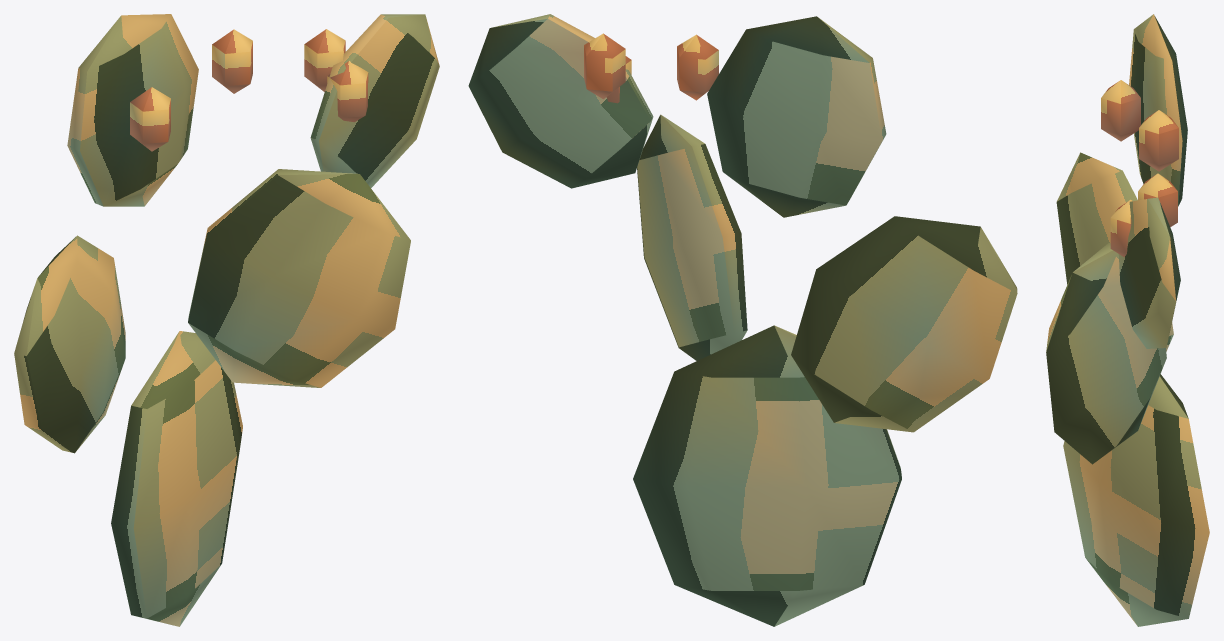
The model's file is wprop.cactus__prickly.glb.
3 renders of one model, left to right at view 1: azimuth 30°, elevation 25°; view 2: azimuth 150°, elevation 25°; view 3: azimuth 270°, elevation 25°, orthographic. The views are drawn at different scales.
Parts seen in each view (by area): view 1: kit_pads, kit_fruit; view 2: kit_pads, kit_fruit; view 3: kit_pads, kit_fruit.
Boxes of the visible parts, x1,y1,x2,y2 form: kit_pads: (14, 14, 439, 626); kit_fruit: (130, 29, 368, 151); kit_pads: (468, 14, 1017, 626); kit_fruit: (584, 33, 718, 103); kit_pads: (1046, 14, 1209, 626); kit_fruit: (1101, 80, 1178, 256).
Bounding box in the file's own units: 1.09 × 1.34 × 0.336.
2 materials, 2 textured.
